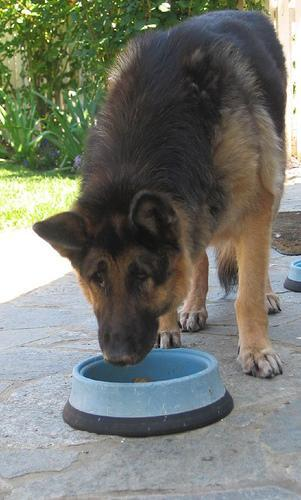German_shepherd: (33, 8, 294, 380)
